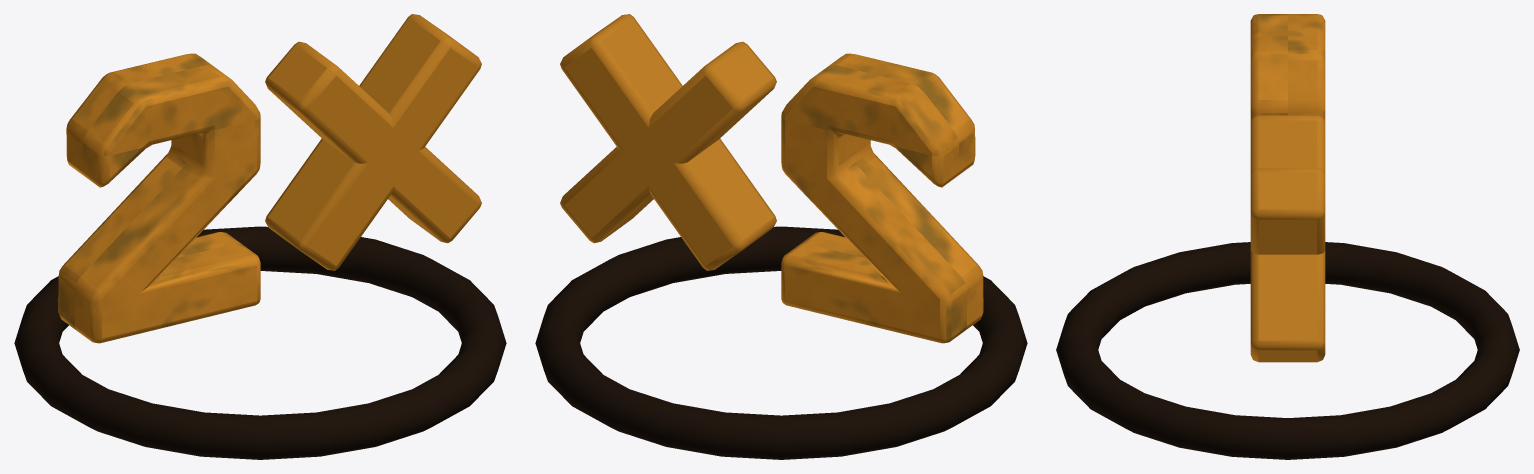
Rendered from powerup_double_points.glb.
3 renders of one model, left to right at view 1: azimuth 30°, elevation 25°; view 2: azimuth 150°, elevation 25°; view 3: azimuth 270°, elevation 25°, orthographic. The views are drawn at different scales.
Parts seen in each view (by area): view 1: DoublePoints; view 2: DoublePoints; view 3: DoublePoints.
Part boxes in pixels (left/top/right/bottom): DoublePoints: left=14, top=14, right=506, bottom=459; DoublePoints: left=535, top=14, right=1027, bottom=459; DoublePoints: left=1056, top=14, right=1519, bottom=459.
Bounding box in the file's own units: 0.528 × 0.3678 × 0.528.
Materials: 2 (2 with a texture image).
